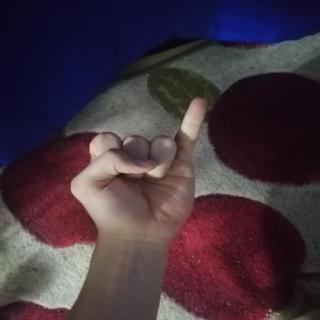MEEM: (58, 91, 227, 252)
